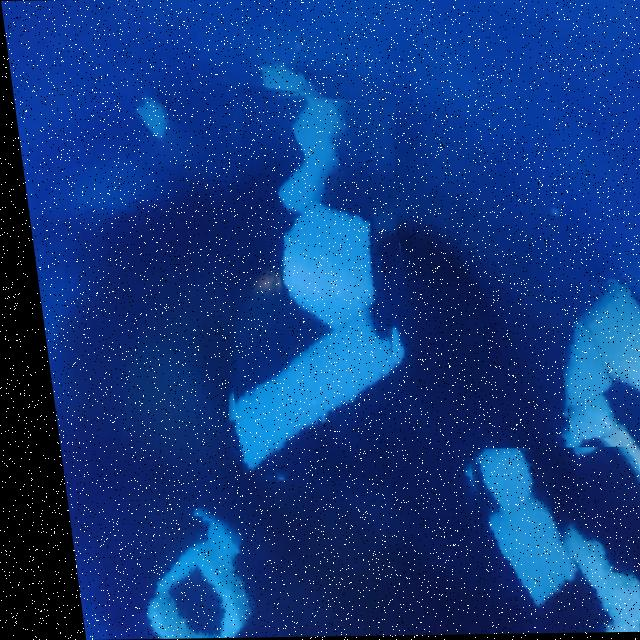litter: (189, 87, 417, 482), (444, 447, 640, 635), (541, 283, 640, 504), (97, 510, 242, 638)
